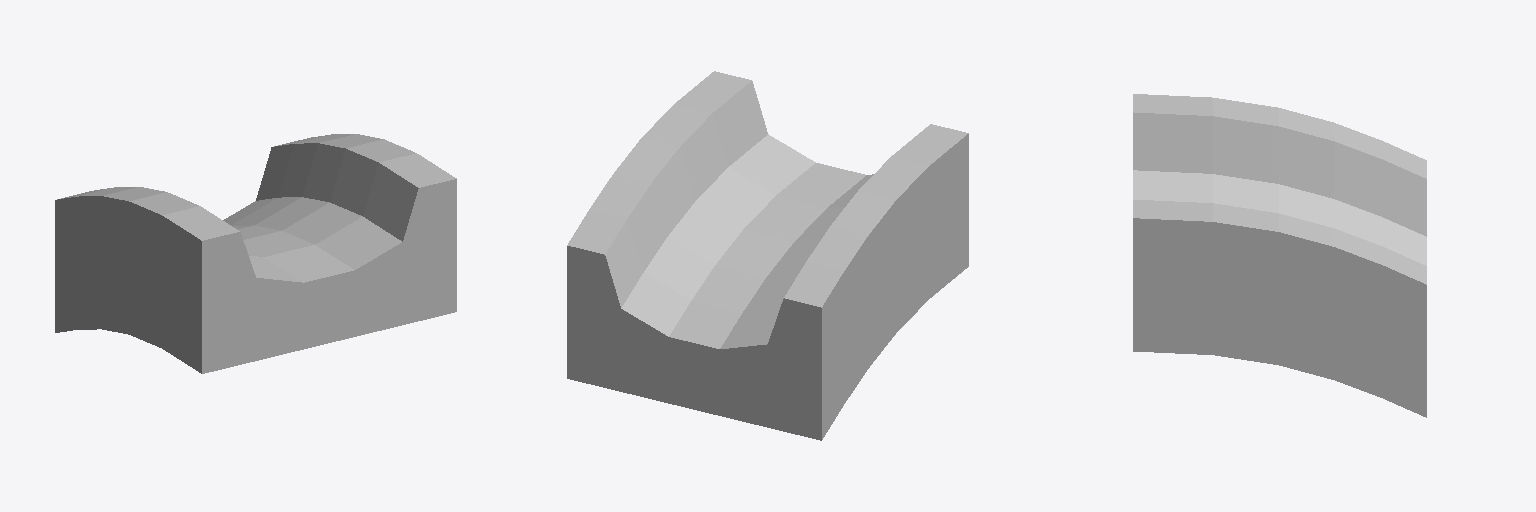
Rendered from ramp-end-b.obj.
The picture shows the model from 3 angles: view 1: azimuth 30°, elevation 25°; view 2: azimuth 150°, elevation 25°; view 3: azimuth 270°, elevation 25°; orthographic projection.
Visible parts, largest first — view 1: ramp-end-b; view 2: ramp-end-b; view 3: ramp-end-b.
Boxes of the visible parts, <box> form: ramp-end-b: <box>55,134,456,373</box>; ramp-end-b: <box>567,71,968,440</box>; ramp-end-b: <box>1133,94,1426,417</box>.
Size of the model in its own units: 1 by 0.75 by 1.